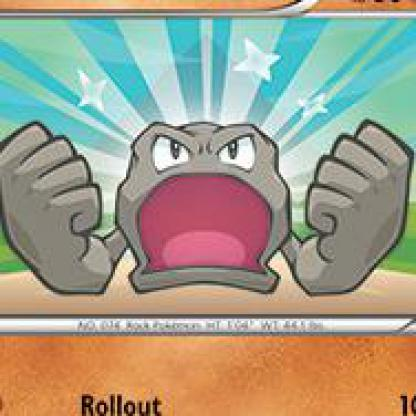Geodude: (1, 8, 415, 415)
